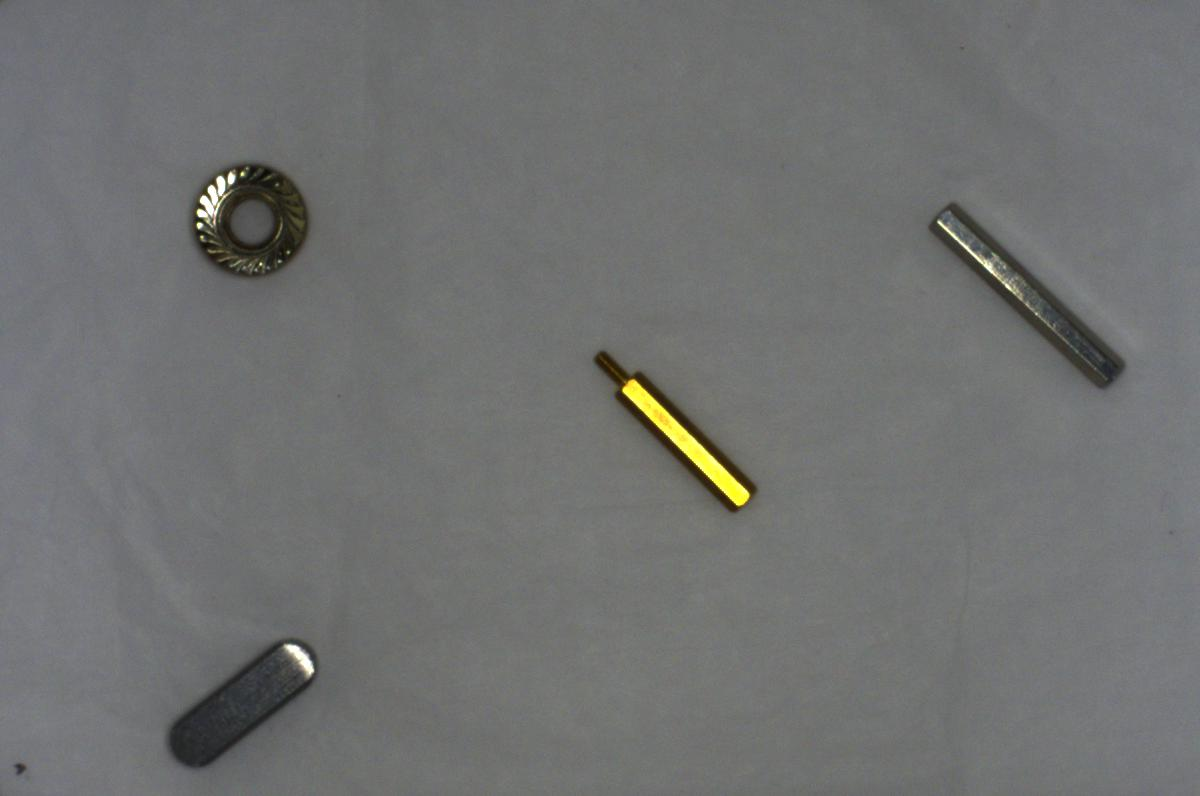Double hexagonal column: (930, 200, 1127, 388)
Flange nut: (185, 150, 315, 285)
Hexagon pillar: (584, 346, 759, 512)
Keybar: (158, 633, 325, 775)
